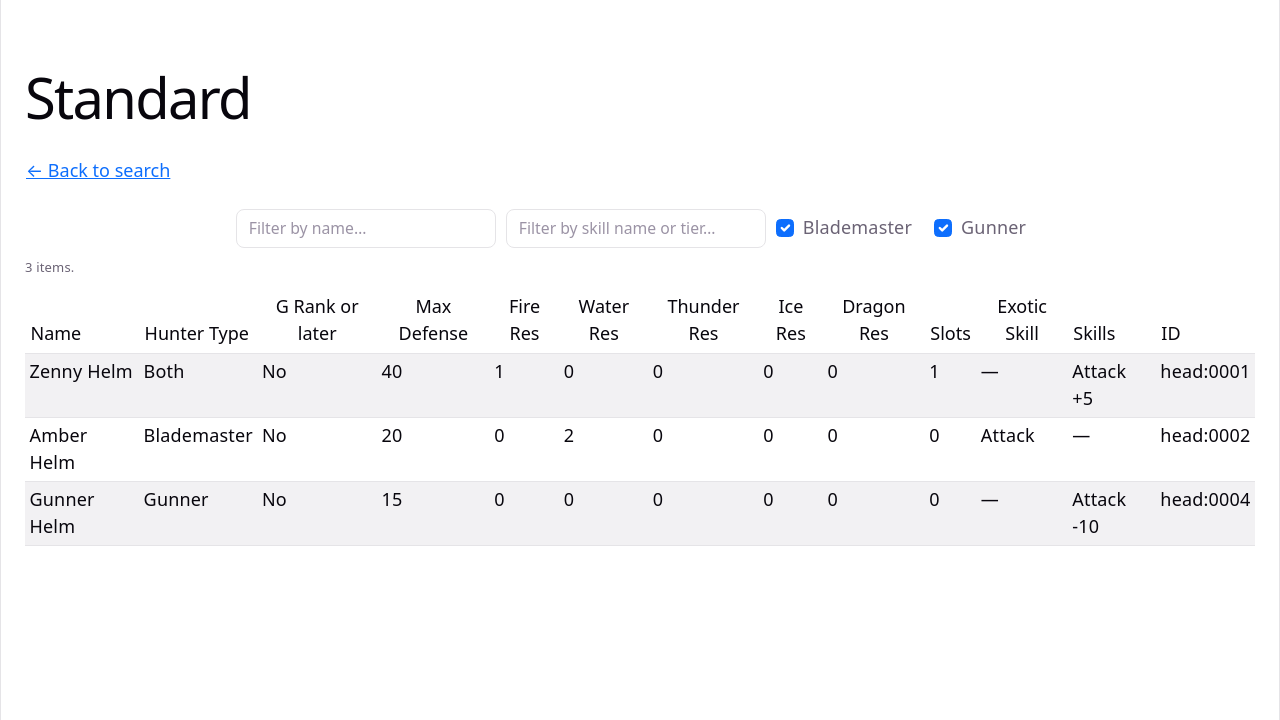
Test: CategoryTablePage › filters rows by name
In the field labelled "Filter by name": (366, 229) [236,209,496,248], type "zenny"
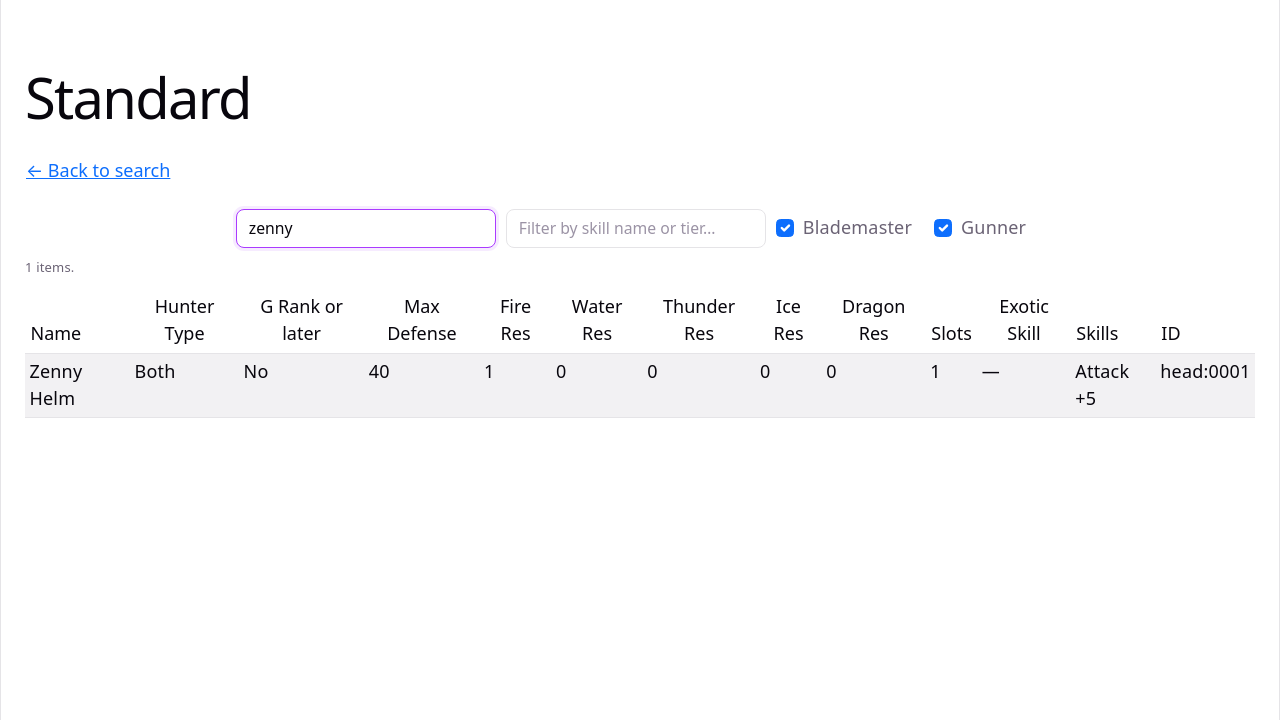
Expected: the text "Zenny Helm" is shown, [25,354,130,418]
Expected: the text "Amber Helm" is gone
